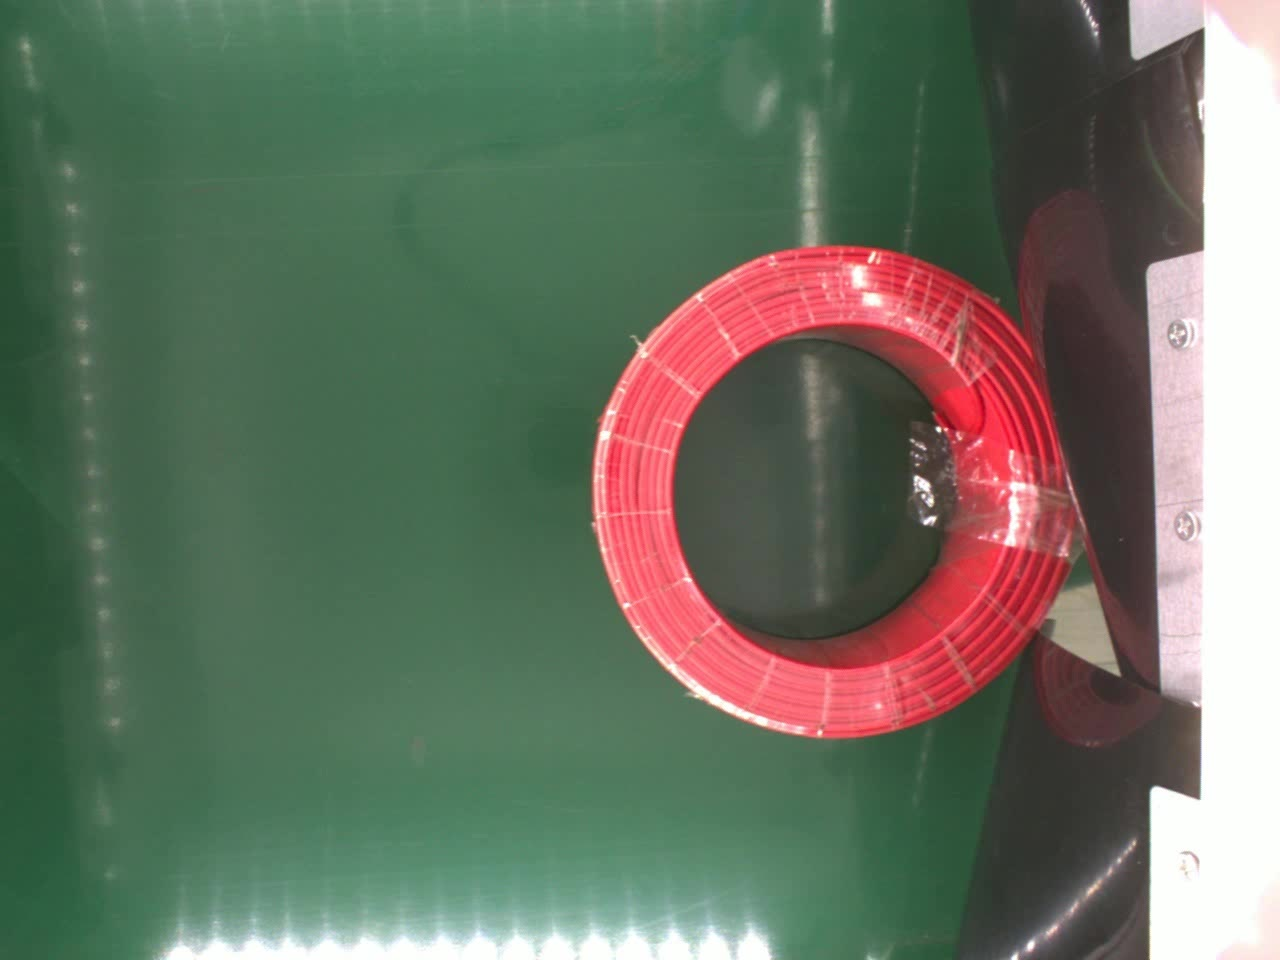red: (586, 240, 1072, 743)
